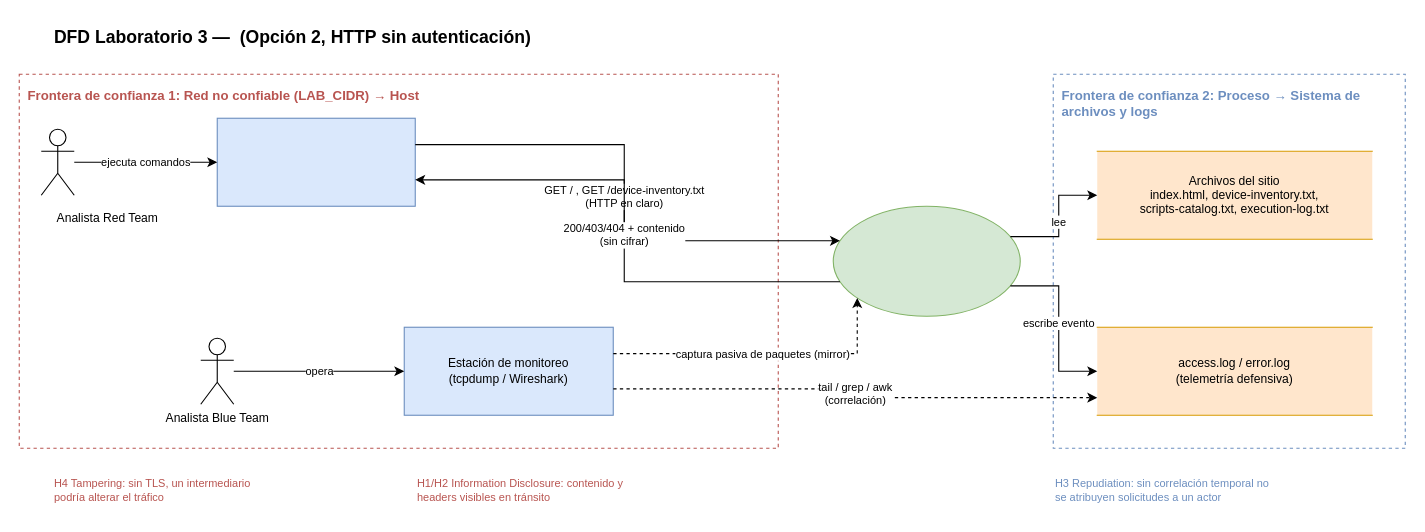
Some shapes in this 1425 by 532 pixel diagram are drawn without their labels. The shapes that lost their labels are listed below. From the top down, each one's centre as x and y in pixels, then its label:
point 315,161: Estación Kali (nmap / curl / ZAP pasivo)
point 926,260: Nginx :80 (sin autenticación, sin TLS)
